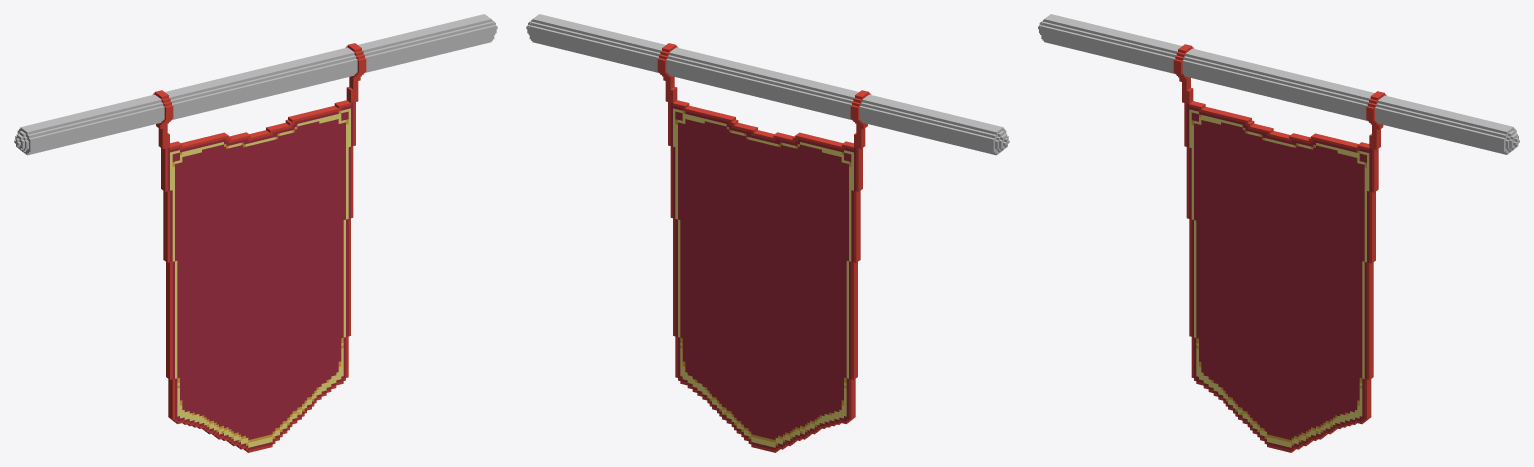
The model's file is Bandera.fbx.
3 renders of one model, left to right at view 1: azimuth 30°, elevation 25°; view 2: azimuth 150°, elevation 25°; view 3: azimuth 330°, elevation 25°, orthographic.
Parts seen in each view (by area): view 1: Bandera, Palo_Bandera; view 2: Bandera, Palo_Bandera; view 3: Bandera, Palo_Bandera.
Part boxes in pixels (left/top/right/bottom): Bandera: left=152, top=43, right=366, bottom=452; Palo_Bandera: left=14, top=14, right=497, bottom=155; Bandera: left=657, top=43, right=871, bottom=452; Palo_Bandera: left=526, top=14, right=1009, bottom=155; Bandera: left=1173, top=44, right=1386, bottom=452; Palo_Bandera: left=1038, top=14, right=1519, bottom=154.
Size of the model in its own units: 19.6 by 14.8 by 1.1.
